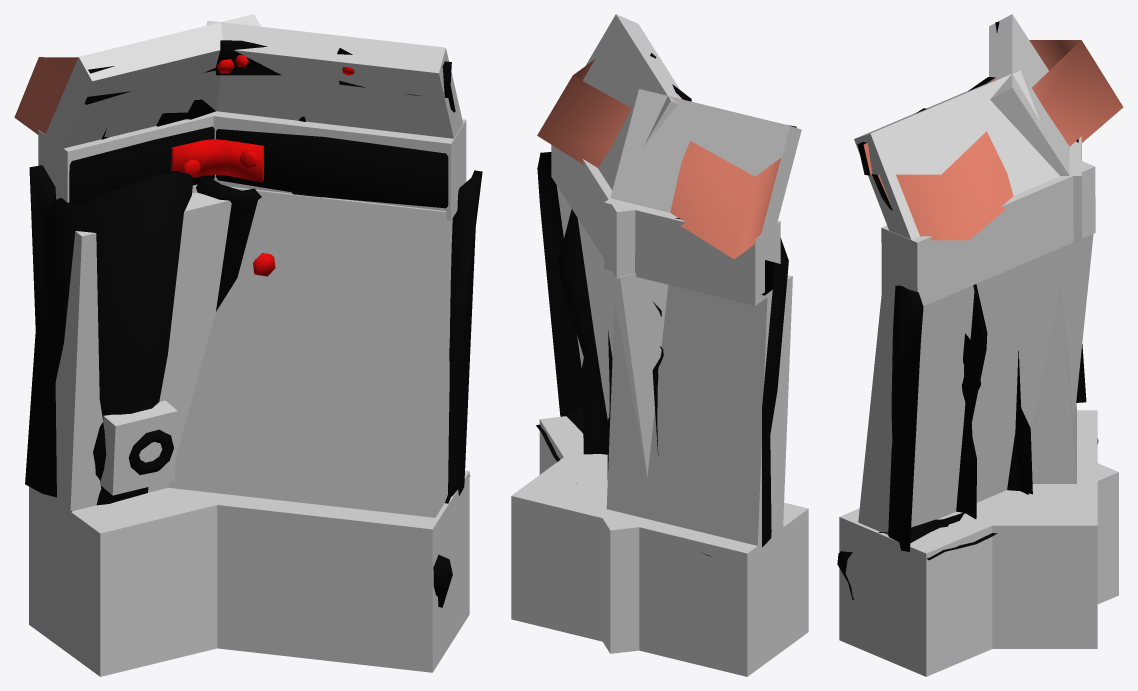
The model's file is MSH_Guts_Wall_01_Corner_01.fbx.
The picture shows the model from 3 angles, left to right: view 1: azimuth 30°, elevation 25°; view 2: azimuth 150°, elevation 25°; view 3: azimuth 270°, elevation 25°; orthographic projection. The views are drawn at different scales.
Visible parts, largest first — view 1: COL_Guts_Wall_01_Corner_04, MSH_Guts_Wall_01_Corner, COL_Guts_Wall_01_Corner_02, COL_Guts_Wall_01_Corner_01, COL_Guts_Wall_01_Corner_09, COL_Guts_Wall_01_Corner_03, COL_Guts_Wall_01_Corner_08, COL_Guts_Wall_01_Corner_07, COL_Guts_Wall_01_Corner_05, COL_Guts_Wall_01_Corner_06, MSH_Guts_Wall_01_Corner_Lightblocker; view 2: COL_Guts_Wall_01_Corner_01, COL_Guts_Wall_01_Corner_03, MSH_Guts_Wall_01_Corner, MSH_Guts_Wall_01_Corner_Lightblocker, COL_Guts_Wall_01_Corner_08, COL_Guts_Wall_01_Corner_04, COL_Guts_Wall_01_Corner_06, COL_Guts_Wall_01_Corner_02, COL_Guts_Wall_01_Corner_09, COL_Guts_Wall_01_Corner_07; view 3: COL_Guts_Wall_01_Corner_04, COL_Guts_Wall_01_Corner_02, COL_Guts_Wall_01_Corner_01, MSH_Guts_Wall_01_Corner, MSH_Guts_Wall_01_Corner_Lightblocker, COL_Guts_Wall_01_Corner_07, COL_Guts_Wall_01_Corner_09, COL_Guts_Wall_01_Corner_08, COL_Guts_Wall_01_Corner_03, COL_Guts_Wall_01_Corner_06.
Part boxes in pixels (x1,y1,x2,y2): COL_Guts_Wall_01_Corner_04: (168,186,452,517); MSH_Guts_Wall_01_Corner: (25,40,482,607); COL_Guts_Wall_01_Corner_02: (217,470,469,672); COL_Guts_Wall_01_Corner_01: (29,486,248,676); COL_Guts_Wall_01_Corner_09: (206,20,463,138); COL_Guts_Wall_01_Corner_03: (44,192,231,518); COL_Guts_Wall_01_Corner_08: (41,14,260,159); COL_Guts_Wall_01_Corner_07: (213,112,466,220); COL_Guts_Wall_01_Corner_05: (100,400,177,495); COL_Guts_Wall_01_Corner_06: (38,111,226,202); MSH_Guts_Wall_01_Corner_Lightblocker: (14,57,78,134); COL_Guts_Wall_01_Corner_01: (511,451,808,676); COL_Guts_Wall_01_Corner_03: (606,275,792,545); MSH_Guts_Wall_01_Corner: (536,53,796,556); MSH_Guts_Wall_01_Corner_Lightblocker: (537,59,780,259); COL_Guts_Wall_01_Corner_08: (610,89,801,253); COL_Guts_Wall_01_Corner_04: (556,185,668,476); COL_Guts_Wall_01_Corner_06: (604,199,780,305); COL_Guts_Wall_01_Corner_02: (539,416,666,653); COL_Guts_Wall_01_Corner_09: (583,14,681,189); COL_Guts_Wall_01_Corner_07: (551,110,649,278); COL_Guts_Wall_01_Corner_04: (858,234,1093,534); COL_Guts_Wall_01_Corner_02: (839,454,1118,676); COL_Guts_Wall_01_Corner_01: (992,410,1097,648); MSH_Guts_Wall_01_Corner: (837,21,1098,599); MSH_Guts_Wall_01_Corner_Lightblocker: (863,40,1123,240); COL_Guts_Wall_01_Corner_07: (881,156,1095,306); COL_Guts_Wall_01_Corner_09: (854,70,1059,239); COL_Guts_Wall_01_Corner_08: (989,14,1074,188); COL_Guts_Wall_01_Corner_03: (1031,282,1076,483); COL_Guts_Wall_01_Corner_06: (1069,136,1081,242).
Size of the model in its own units: 2.65 by 4.22 by 2.1.
